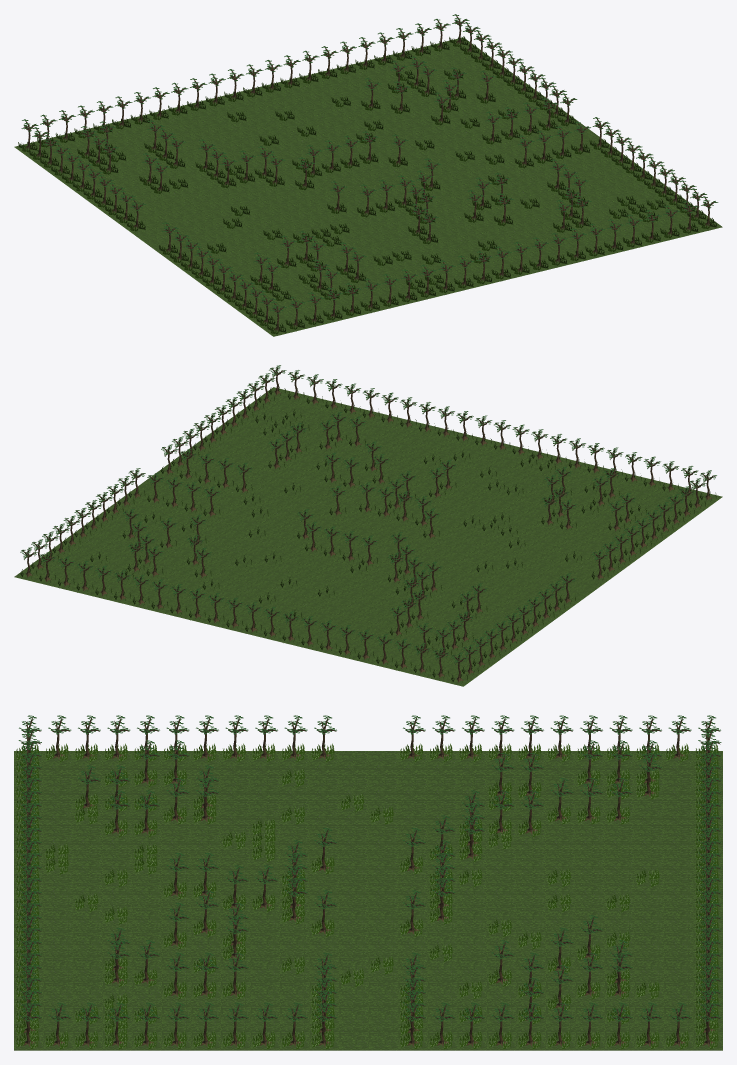
The model's file is forest.fbx.
3 renders of one model, top to bottom at view 1: azimuth 30°, elevation 25°; view 2: azimuth 150°, elevation 25°; view 3: azimuth 270°, elevation 25°, orthographic. The views are drawn at different scales.
Parts seen in each view (by area): view 1: Base; view 2: Base; view 3: Base.
Part boxes in pixels (x1,y1,x2,y2): Base: (14,37,722,336); Base: (14,387,722,686); Base: (14,751,722,1050).
Bounding box in the file's own units: 4800 × 316 × 4800.
3 materials, 3 textured.
